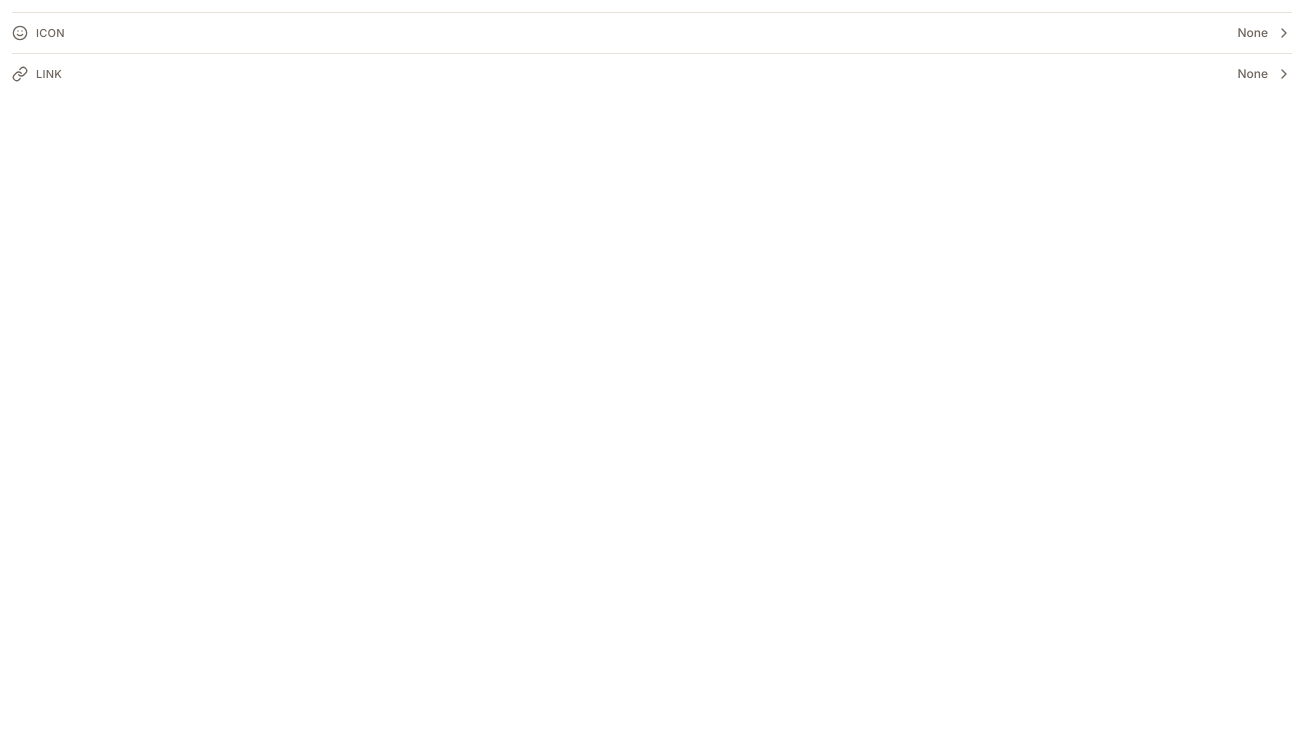
Test: rejects pasted icon name two words without editing
Expected: the field labelled "Link Address" is not shown
Click the button "Icon None": (1253, 32) x1=12 y1=13 x2=1292 y2=53
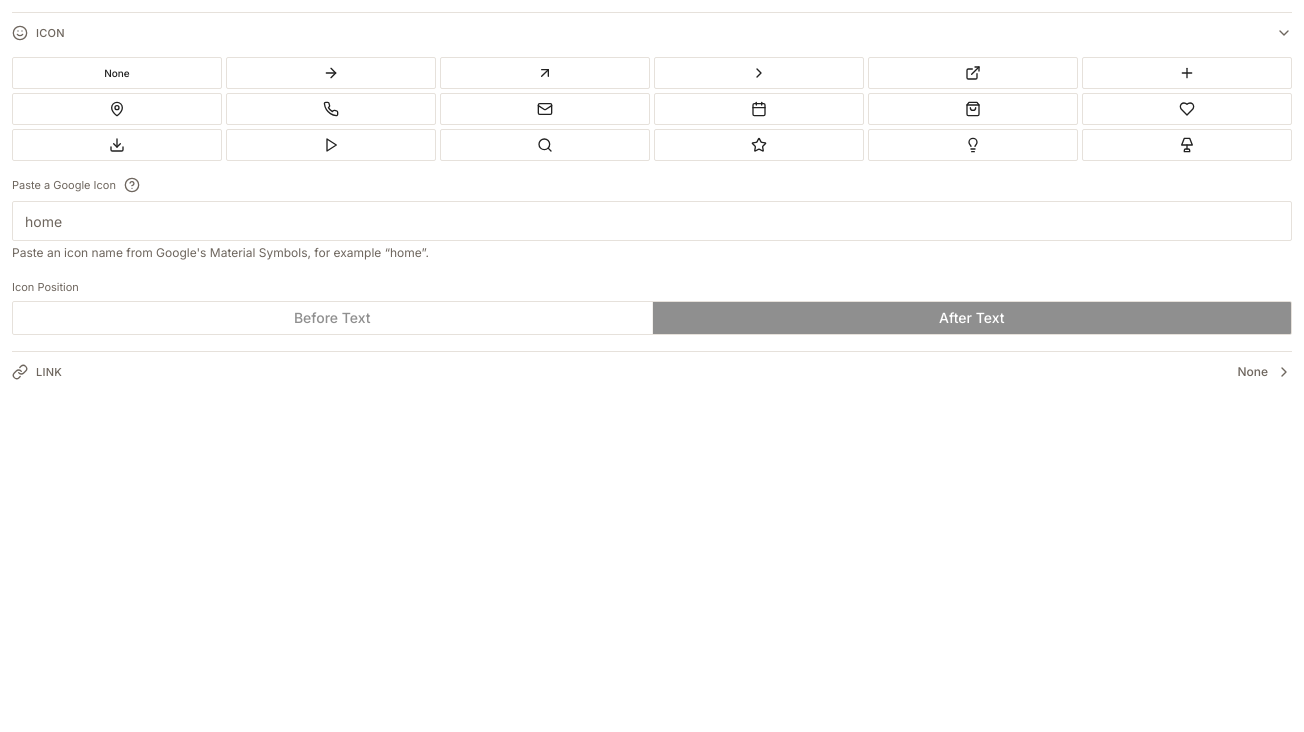
Click the button "Link None": (1253, 372) x1=12 y1=352 x2=1292 y2=392
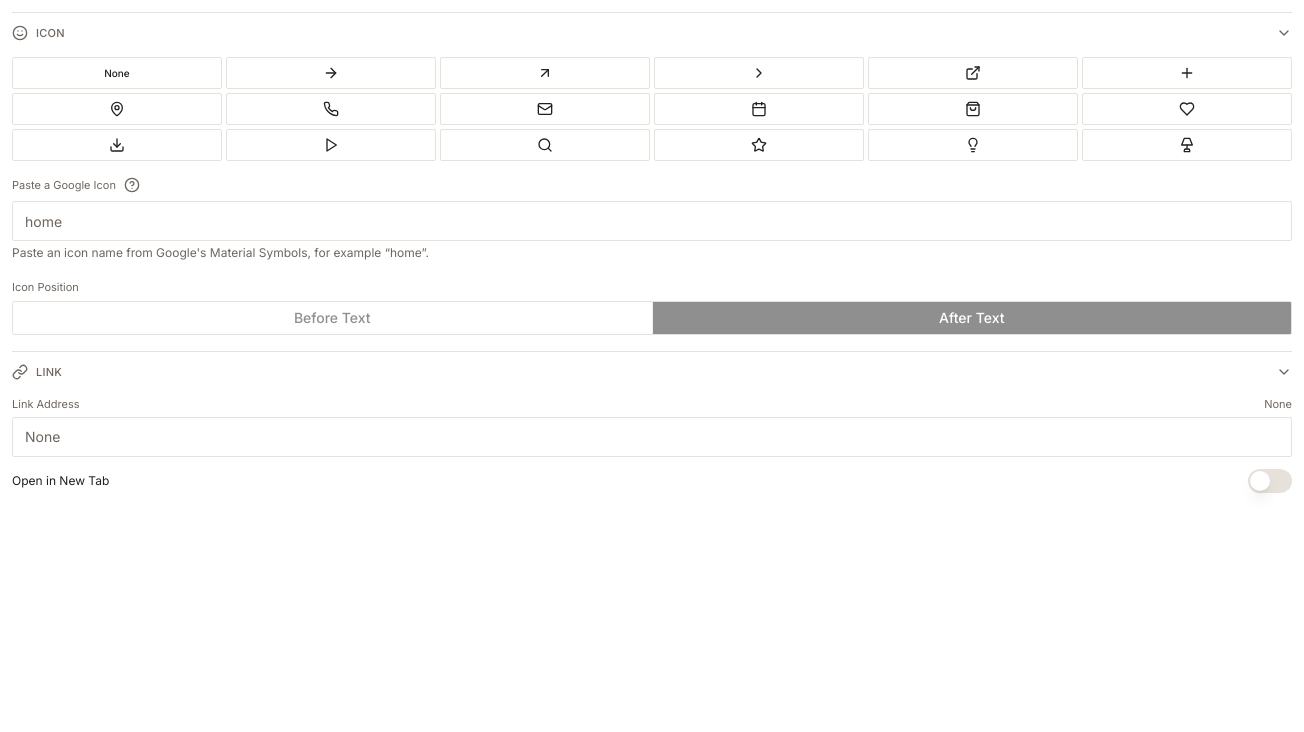
In the field labelled "Paste a Google Icon": (652, 221) x1=12 y1=201 x2=1292 y2=241, type "two words"
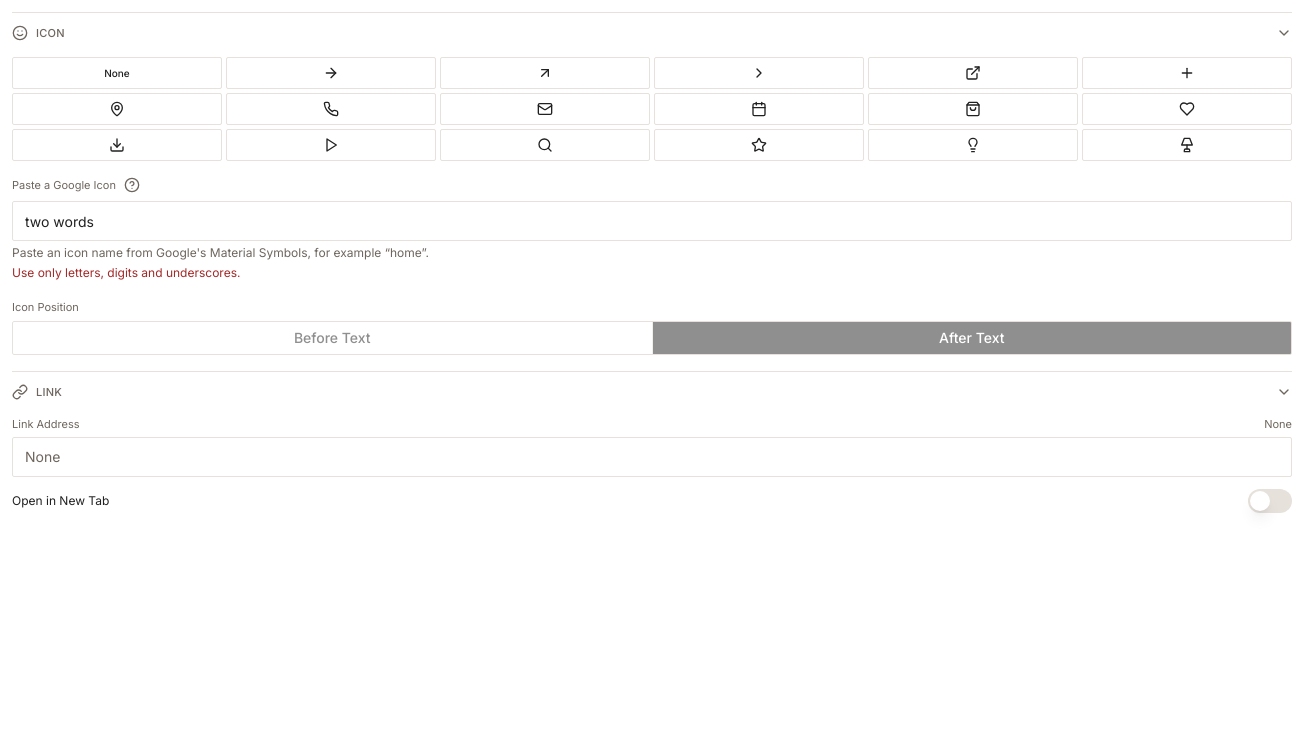
Expected: the message "Use only letters, digits and underscores." is shown, x1=12 y1=265 x2=240 y2=280
